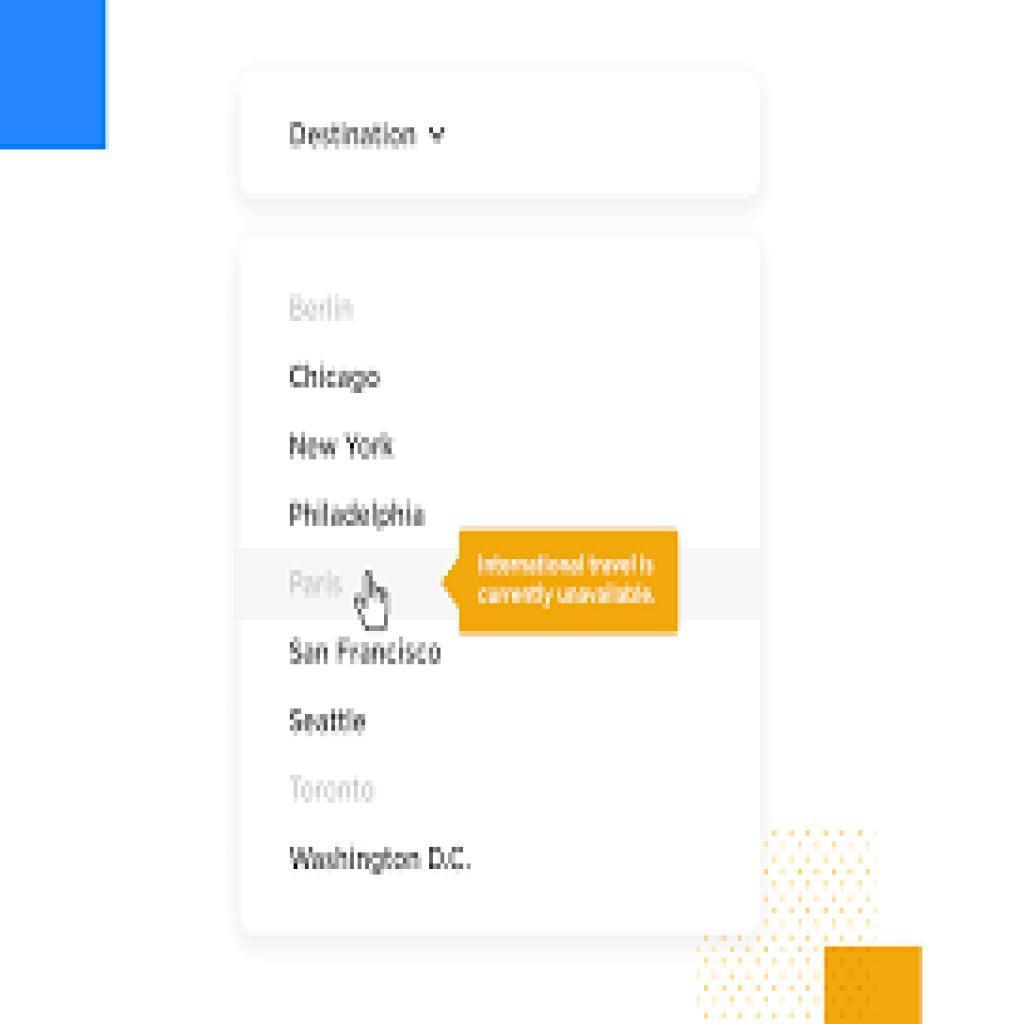dropdown: (234, 63, 765, 205)
